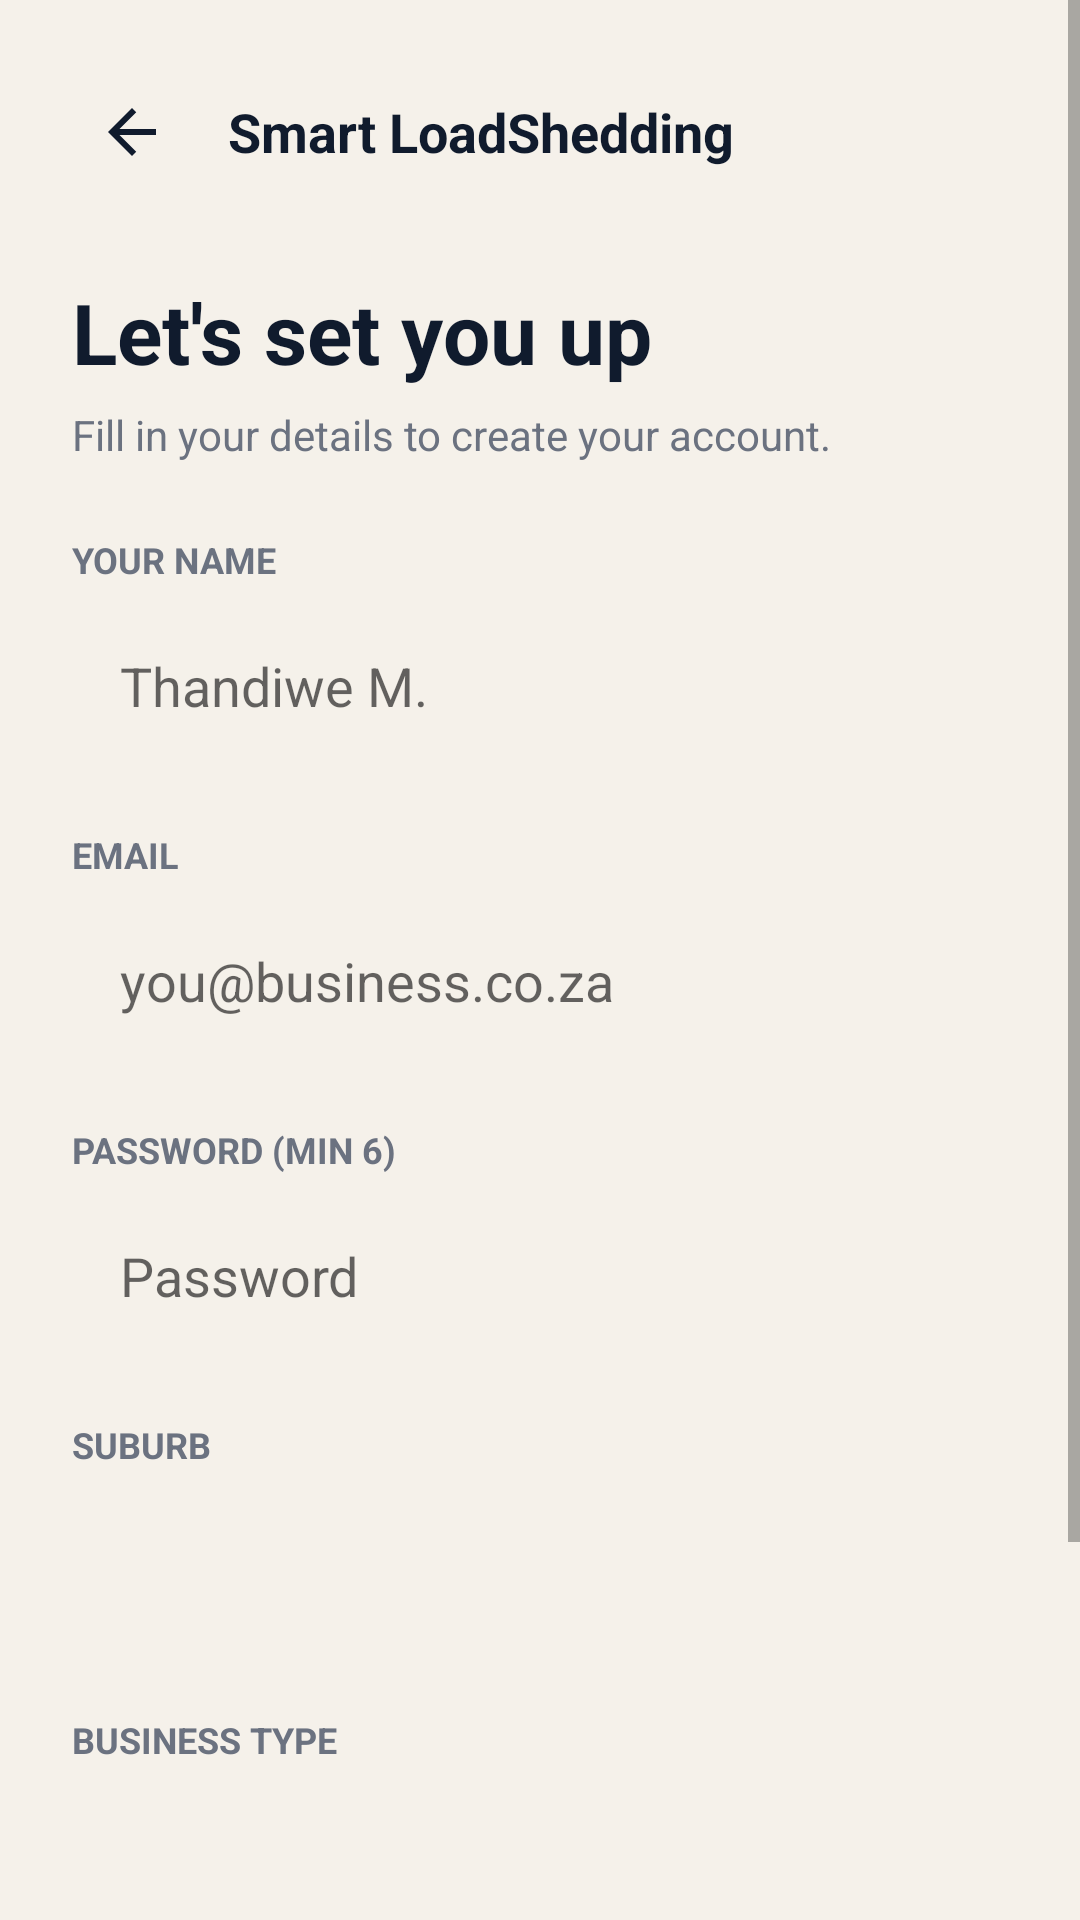

Icon bounding boxes for this 1080px x 1920px phone screenshot, format (x1, y1, x2, y2):
Back: (108, 108, 156, 156)
